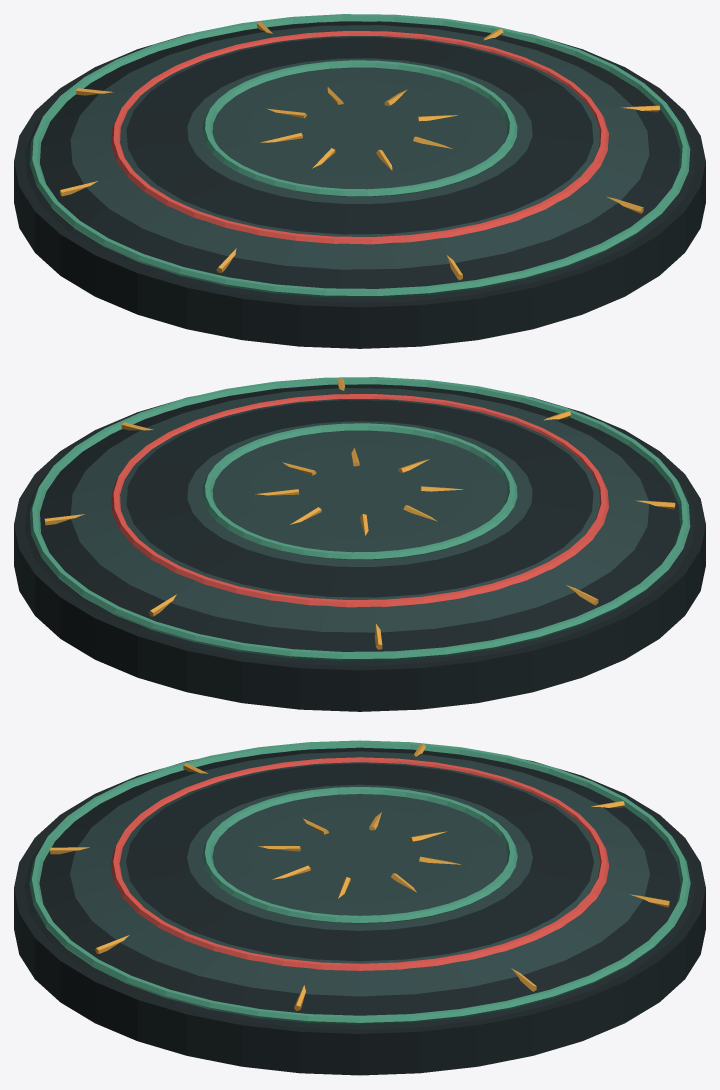
Rendered from ParkParkNeonMound.obj.
3 renders of one model, top to bottom at view 1: azimuth 30°, elevation 25°; view 2: azimuth 150°, elevation 25°; view 3: azimuth 270°, elevation 25°, orthographic.
Parts seen in each view (by area): view 1: ParkParkNeonMound; view 2: ParkParkNeonMound; view 3: ParkParkNeonMound.
Boxes of the visible parts, <box> form: ParkParkNeonMound: <box>14,14,705,348</box>; ParkParkNeonMound: <box>14,377,705,711</box>; ParkParkNeonMound: <box>14,740,705,1075</box>.
Bounding box in the file's own units: 13.6 × 1.69 × 13.6.
